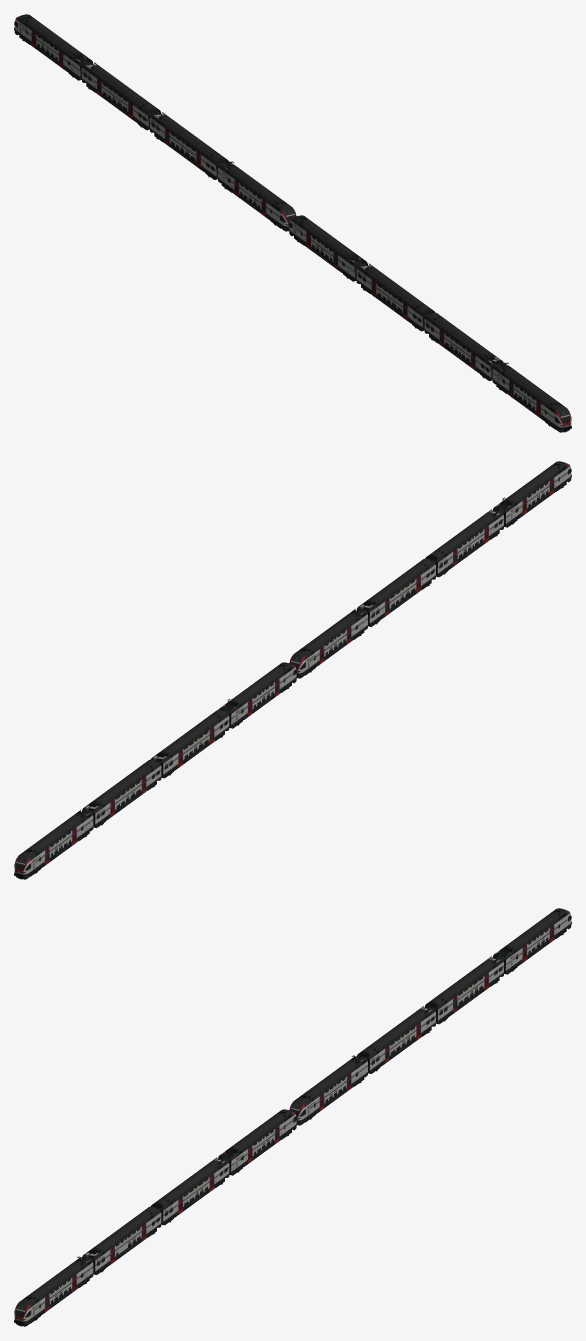
The model's file is SBB RABe 511 (4+4 Cars).glb.
The picture shows the model from 3 angles, top to bottom: view 1: azimuth 30°, elevation 25°; view 2: azimuth 150°, elevation 25°; view 3: azimuth 330°, elevation 25°; orthographic projection.
Visible parts, largest first — view 1: 07_body, 03_body, 06_body, 01_body, 02_body, 05_body, 04_body, 00_body; view 2: 00_body, 04_body, 01_body, 05_body, 02_body, 07_body, 06_body, 03_body; view 3: 07_body, 03_body, 06_body, 01_body, 05_body, 02_body, 04_body, 00_body.
Boxes of the visible parts, left/top/right/bottom form: 07_body: left=492, top=362, right=571, bottom=432; 03_body: left=218, top=161, right=296, bottom=231; 06_body: left=424, top=312, right=503, bottom=380; 01_body: left=82, top=62, right=161, bottom=130; 02_body: left=150, top=112, right=228, bottom=179; 05_body: left=356, top=263, right=434, bottom=331; 04_body: left=288, top=215, right=367, bottom=281; 00_body: left=14, top=14, right=93, bottom=80; 00_body: left=14, top=810, right=93, bottom=879; 04_body: left=289, top=609, right=367, bottom=678; 01_body: left=82, top=759, right=161, bottom=827; 05_body: left=356, top=558, right=435, bottom=626; 02_body: left=151, top=709, right=229, bottom=778; 07_body: left=492, top=461, right=571, bottom=527; 06_body: left=425, top=509, right=503, bottom=577; 03_body: left=218, top=662, right=297, bottom=728; 07_body: left=14, top=1256, right=93, bottom=1326; 03_body: left=289, top=1055, right=367, bottom=1125; 06_body: left=82, top=1206, right=161, bottom=1274; 01_body: left=424, top=956, right=503, bottom=1024; 05_body: left=151, top=1157, right=229, bottom=1225; 02_body: left=357, top=1006, right=435, bottom=1073; 04_body: left=218, top=1109, right=297, bottom=1175; 00_body: left=492, top=908, right=571, bottom=974.
Bounding box in the file's own units: 2.76 × 4.93 × 189.
4 materials, 4 textured.
